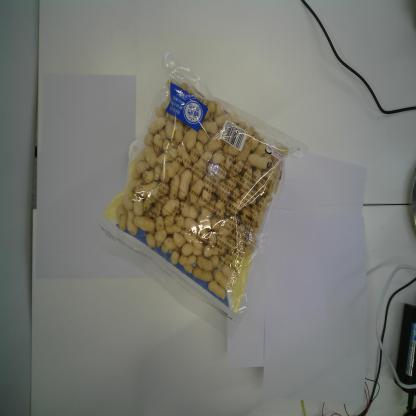Dried Food: (97, 52, 308, 340)
